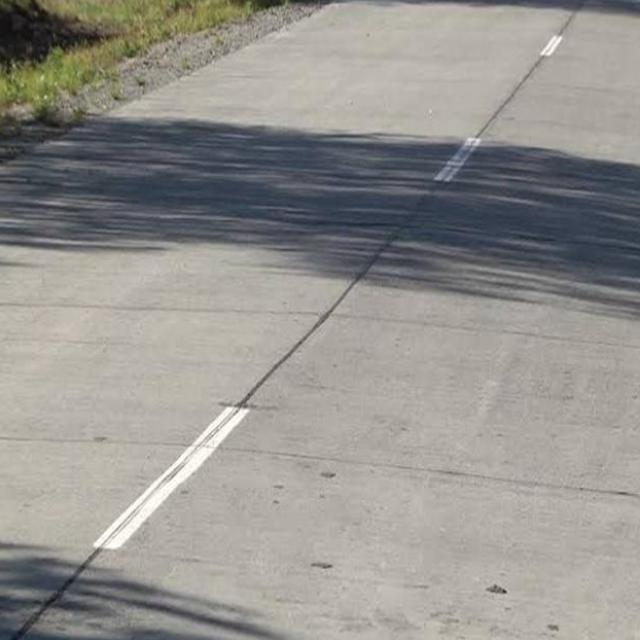Memanjang: (0, 10, 587, 640)
